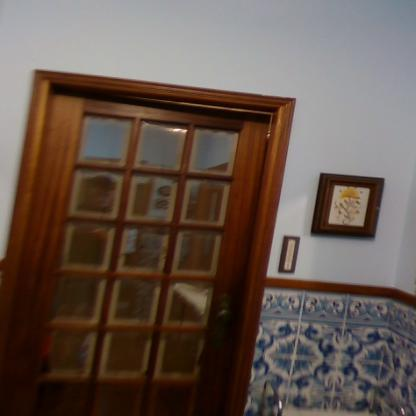door: (45, 86, 249, 416)
knob: (216, 306, 240, 330)
